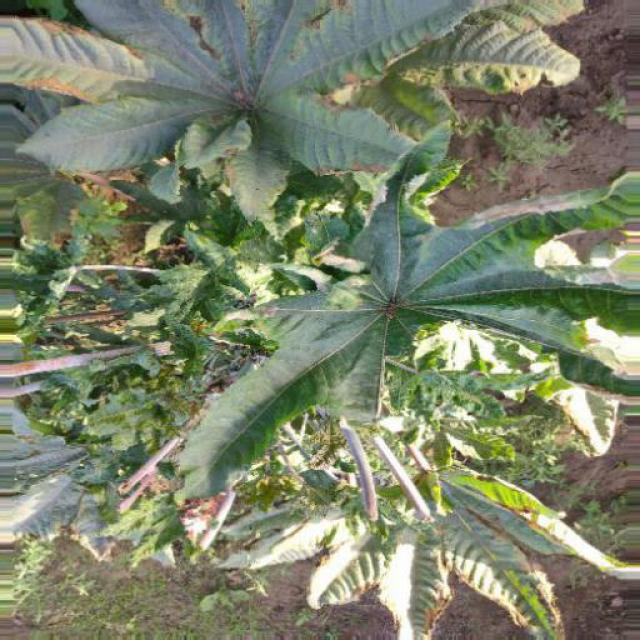weed: (12, 10, 616, 614)
